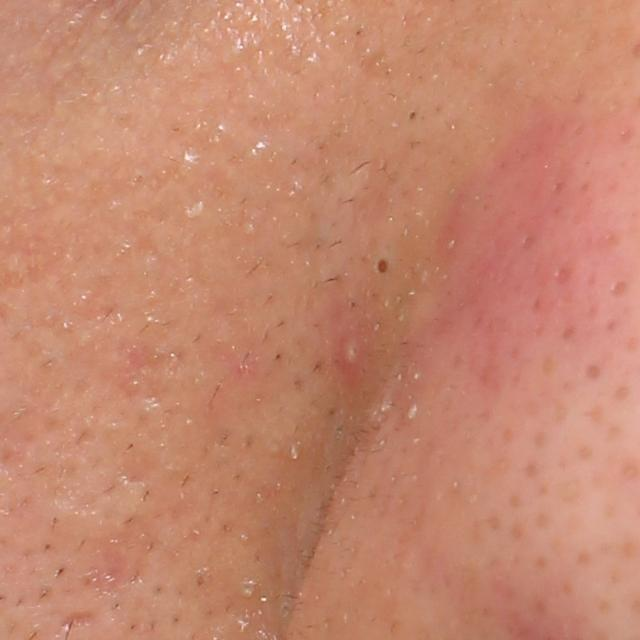atrophic_scar: (86, 511, 155, 592), (115, 437, 164, 486), (55, 609, 97, 633)
comedo: (370, 251, 395, 280)
pustule: (337, 335, 367, 370)
